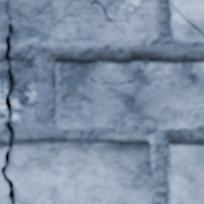brick: (55, 59, 203, 129), (167, 143, 203, 203), (171, 7, 203, 41), (170, 0, 203, 30)
broken_brick: (7, 140, 155, 203), (10, 0, 158, 45), (12, 57, 38, 128), (0, 58, 8, 125), (0, 0, 8, 46), (0, 172, 9, 203), (0, 144, 7, 166)
crack: (0, 0, 16, 203), (170, 3, 203, 37), (105, 141, 141, 145), (21, 141, 38, 145), (27, 59, 31, 65)
